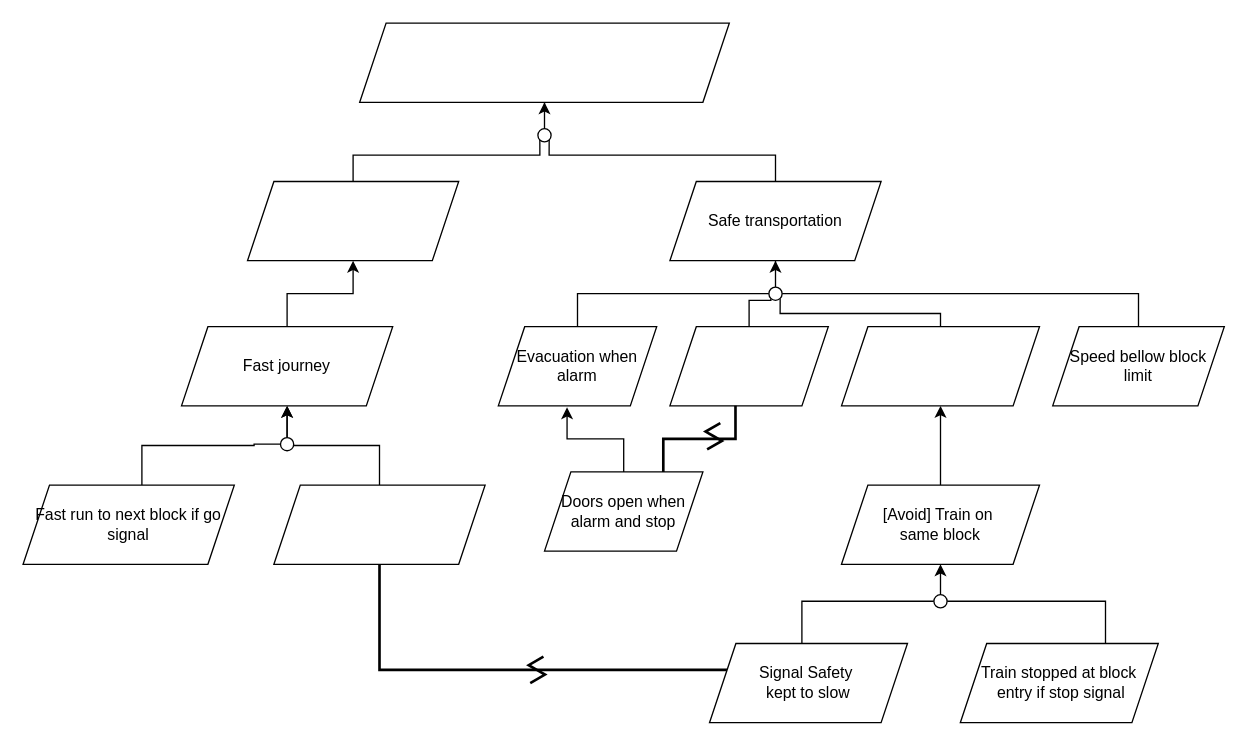
This 1247x746 diagram has some shape labels left out. The shapes that lost their labels are listed below. From the top down, each one's centre as x and y in pixels, then its label:
point 543,62: Effective passenger transportation
point 352,220: Rapid transportation
point 748,365: Doors closed between stations
point 940,365: [Avoid] Train collision
point 379,524: Signal promptly set to go
